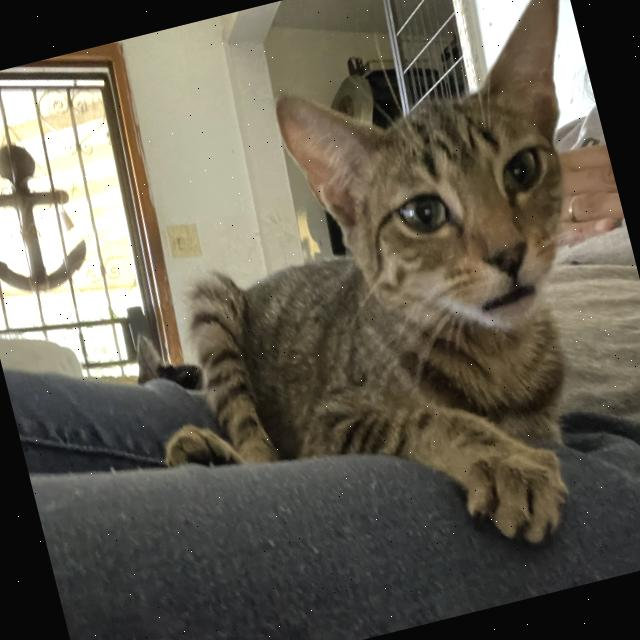manx_cat: (248, 0, 640, 391)
